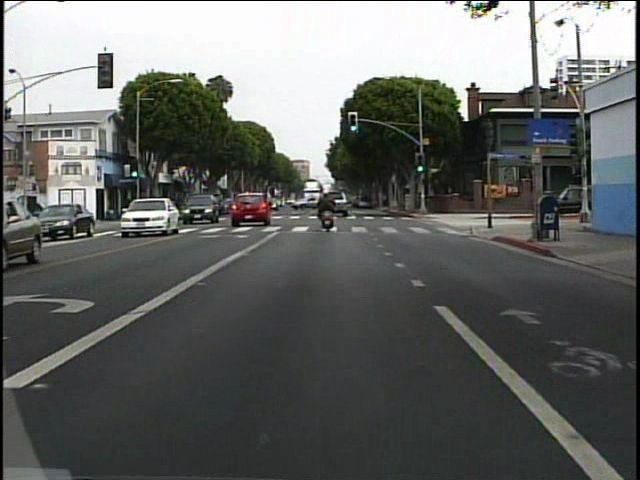person: (312, 186, 343, 240)
